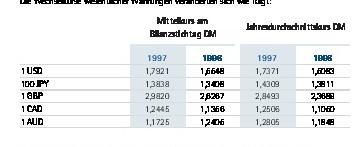table: (0, 0, 360, 147)
